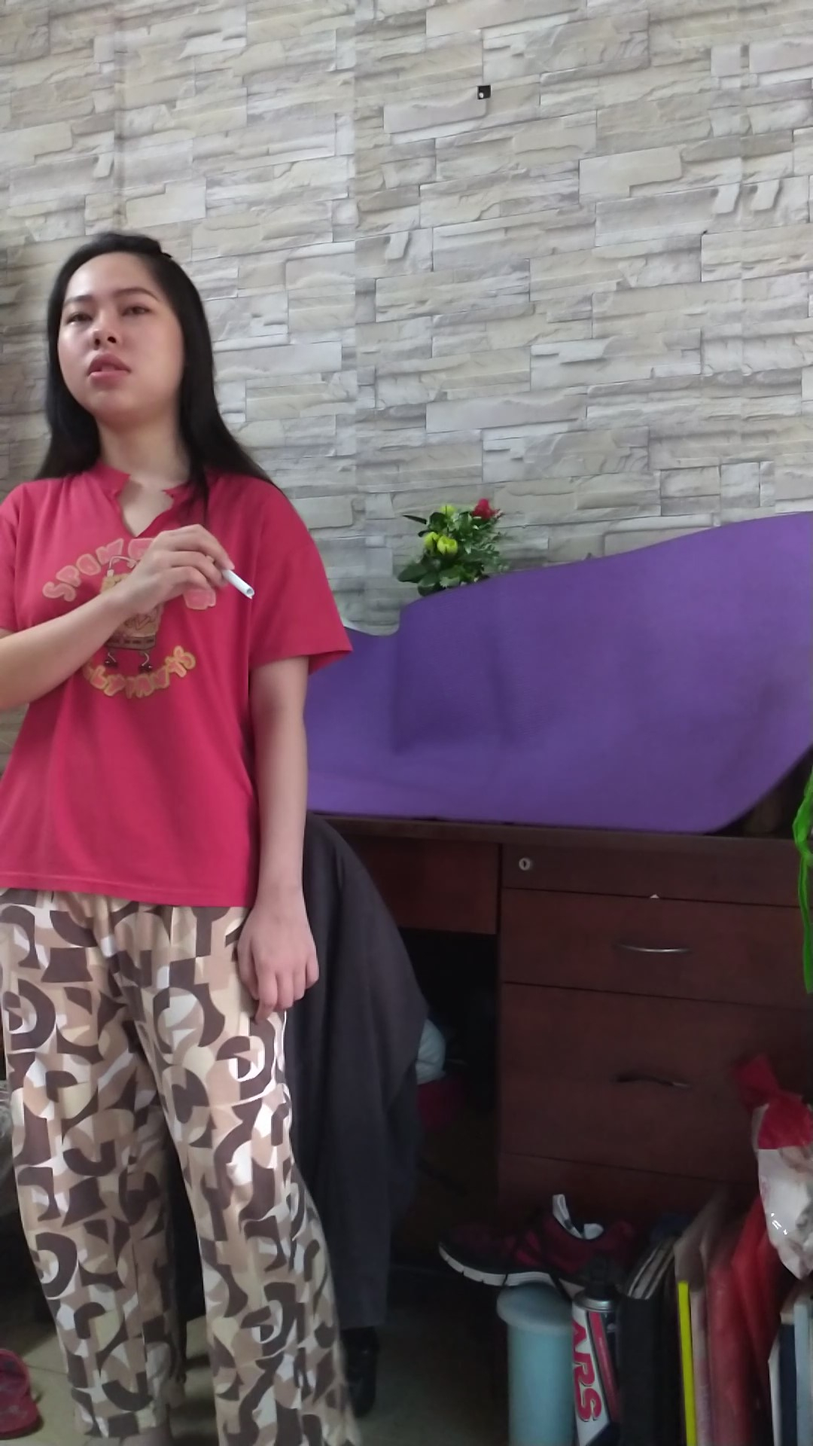cigarette: (215, 563, 261, 610)
person: (0, 192, 373, 1446)
